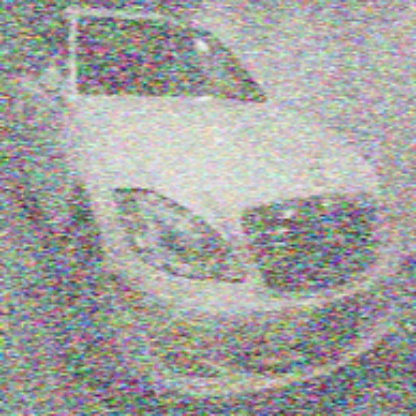Vehicle: (14, 8, 404, 397)
